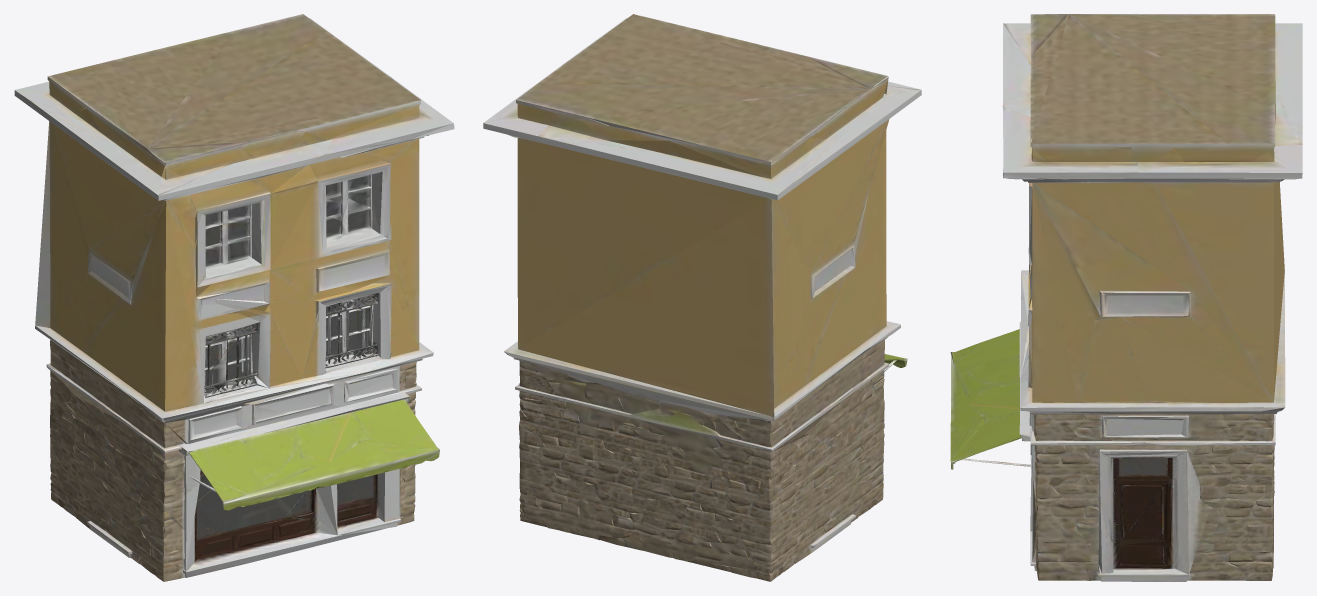
File: juice_shop.glb
3 views of the same model, side by side, from view 1: azimuth 30°, elevation 25°; view 2: azimuth 150°, elevation 25°; view 3: azimuth 270°, elevation 25° (orthographic). The views are drawn at different scales.
Visible parts, largest first — view 1: Mesh_0; view 2: Mesh_0; view 3: Mesh_0.
Part boxes in pixels (x1,y1,x2,y2): Mesh_0: [14, 14, 454, 581]; Mesh_0: [483, 14, 921, 581]; Mesh_0: [950, 14, 1302, 581].
Bounding box in the file's own units: 6 × 8.19 × 5.96.
1 material, 1 textured.
